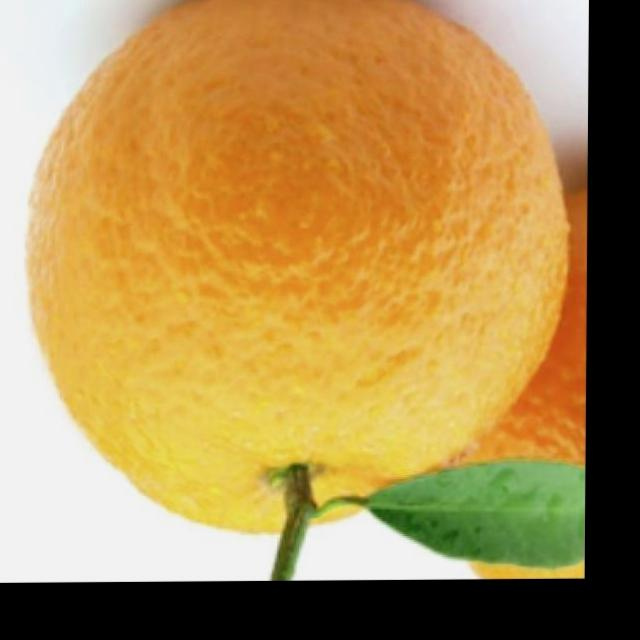Orange: (24, 0, 576, 550), (446, 191, 589, 580)
